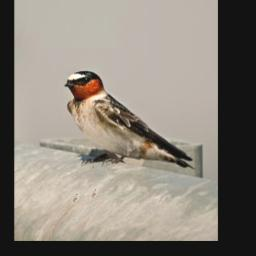Swallow: (63, 68, 196, 169)
